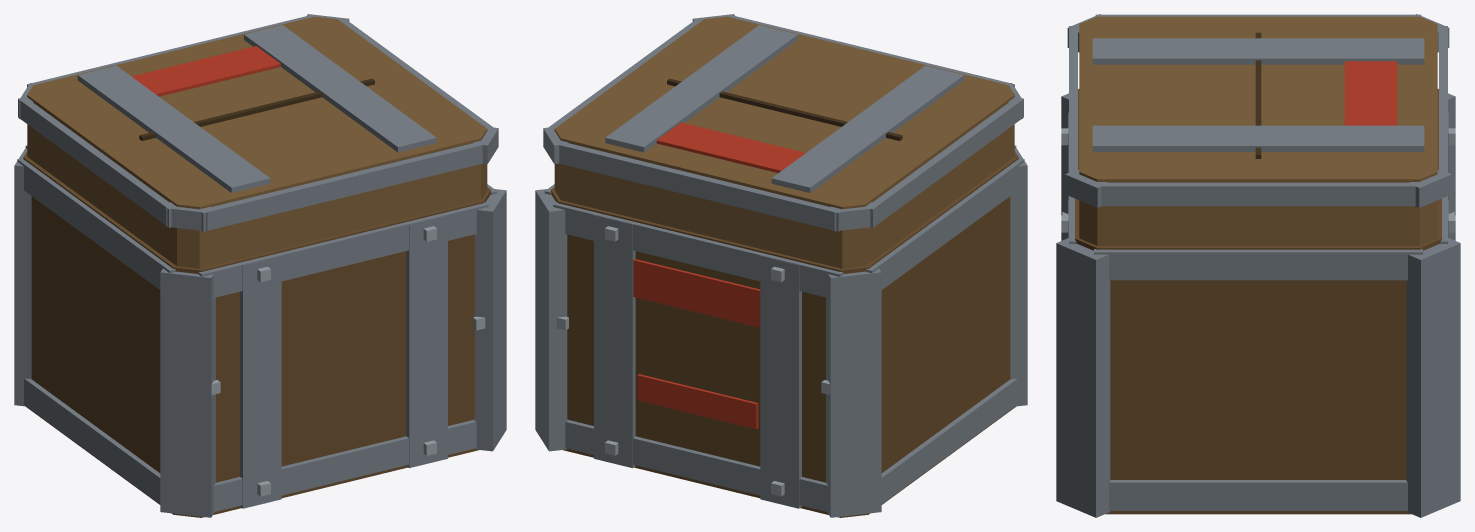
File: mdl_loot_box_military_v4.glb
3 views of the same model, side by side, from view 1: azimuth 30°, elevation 25°; view 2: azimuth 150°, elevation 25°; view 3: azimuth 270°, elevation 25° (orthographic). The views are drawn at different scales.
Visible parts, largest first — view 1: GEO_Chest_Iron, GEO_Chest_Body, GEO_Chest_Lid, GEO_Chest_Lid_Iron, GEO_Chest_Lid_Paint; view 2: GEO_Chest_Iron, GEO_Chest_Body, GEO_Chest_Lid, GEO_Chest_Lid_Iron, GEO_Chest_Paint, GEO_Chest_Lid_Paint; view 3: GEO_Chest_Body, GEO_Chest_Lid, GEO_Chest_Iron, GEO_Chest_Lid_Iron, GEO_Chest_Lid_Paint.
Boxes of the visible parts, x1=… form: GEO_Chest_Iron: x1=14, y1=145, x2=506, y2=517; GEO_Chest_Body: x1=23, y1=151, x2=490, y2=517; GEO_Chest_Lid: x1=27, y1=16, x2=487, y2=268; GEO_Chest_Lid_Iron: x1=18, y1=14, x2=498, y2=231; GEO_Chest_Lid_Paint: x1=131, y1=46, x2=280, y2=96; GEO_Chest_Iron: x1=535, y1=145, x2=1027, y2=517; GEO_Chest_Body: x1=551, y1=151, x2=1018, y2=517; GEO_Chest_Lid: x1=554, y1=16, x2=1014, y2=268; GEO_Chest_Lid_Iron: x1=543, y1=14, x2=1023, y2=231; GEO_Chest_Paint: x1=633, y1=259, x2=760, y2=429; GEO_Chest_Lid_Paint: x1=656, y1=122, x2=805, y2=172; GEO_Chest_Body: x1=1075, y1=89, x2=1441, y2=514; GEO_Chest_Lid: x1=1079, y1=16, x2=1437, y2=245; GEO_Chest_Iron: x1=1056, y1=93, x2=1460, y2=517; GEO_Chest_Lid_Iron: x1=1065, y1=14, x2=1451, y2=207; GEO_Chest_Lid_Paint: x1=1344, y1=61, x2=1397, y2=125.
Bounding box in the file's own units: 0.9302 × 0.814 × 0.8815.
